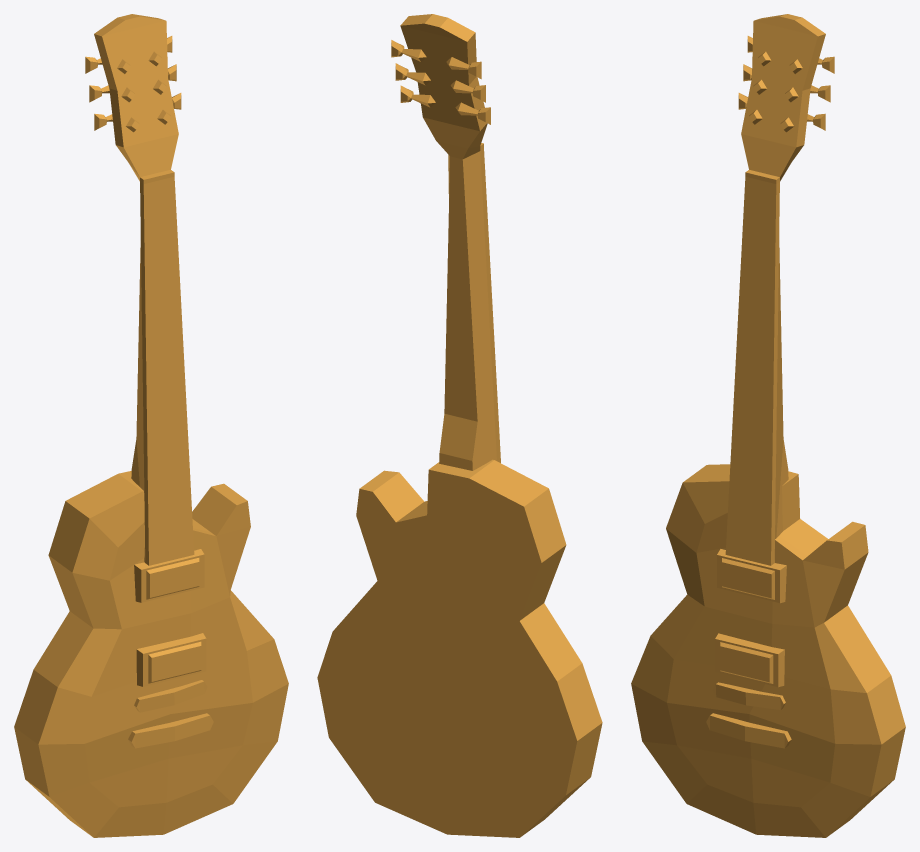
The model's file is guitar-electric-rock.fbx.
The picture shows the model from 3 angles, left to right: view 1: azimuth 30°, elevation 25°; view 2: azimuth 150°, elevation 25°; view 3: azimuth 330°, elevation 25°; orthographic projection. The views are drawn at different scales.
Visible parts, largest first — view 1: guitar-electric-rock; view 2: guitar-electric-rock; view 3: guitar-electric-rock.
Part boxes in pixels (x1,y1,x2,y2): guitar-electric-rock: (14,14,288,837); guitar-electric-rock: (317,14,602,837); guitar-electric-rock: (631,14,905,837).
Size of the model in its own units: 0.3399 by 1.03 by 0.1199.
